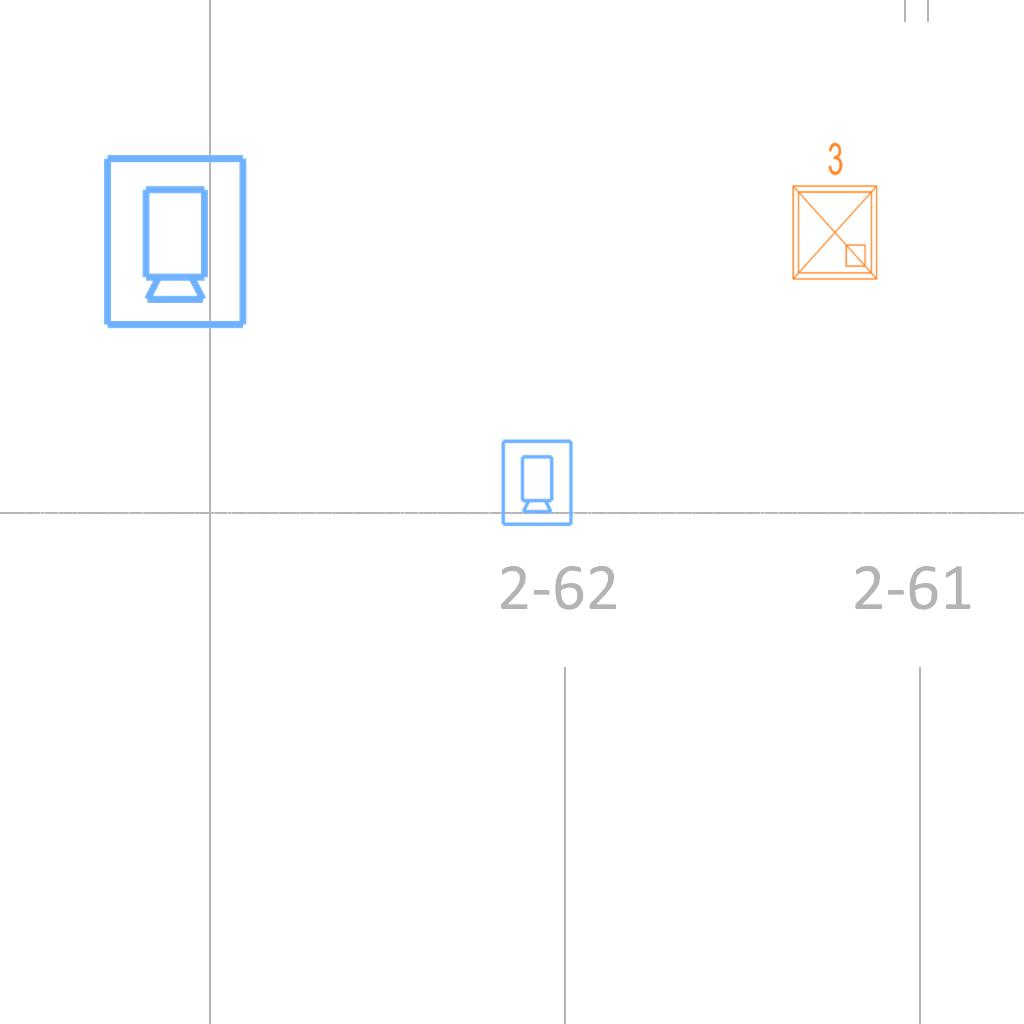Einbaudownlights_LED_Konferenzraeume: (781, 137, 885, 287)
KFO_Kamera_mit_Festobjektiv: (97, 150, 251, 332), (498, 437, 575, 528)
